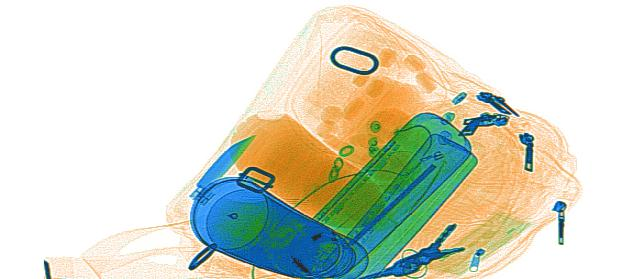knife: (189, 126, 270, 208)
